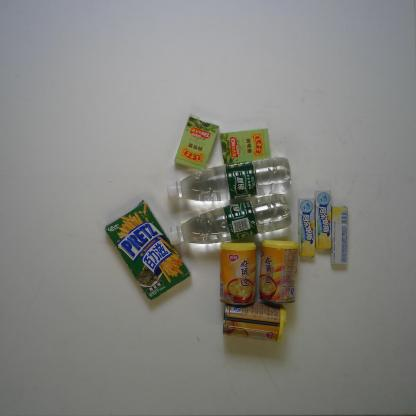Candy: (172, 113, 220, 172), (221, 126, 272, 164), (330, 206, 350, 266), (314, 189, 333, 250), (298, 196, 316, 260)
Canned Food: (220, 302, 287, 343), (259, 238, 300, 304), (218, 241, 257, 306)
Dessert: (104, 199, 192, 300)
Drink: (166, 190, 293, 247), (166, 156, 292, 203)
